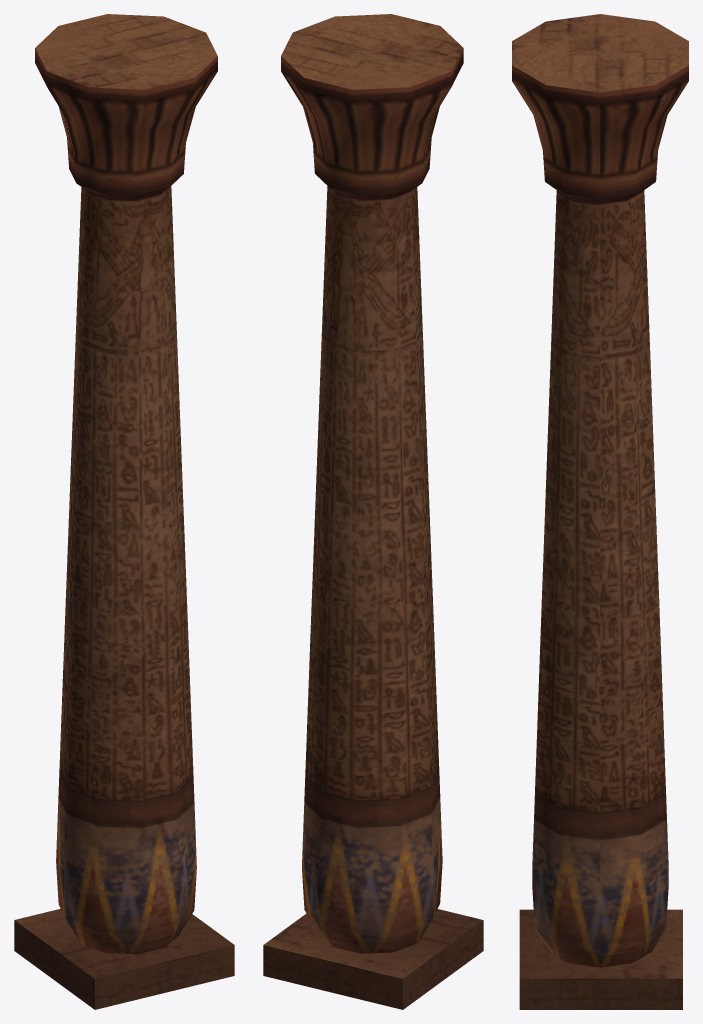
Rendered from Pillar_High_01.FBX.
The picture shows the model from 3 angles, left to right: view 1: azimuth 30°, elevation 25°; view 2: azimuth 150°, elevation 25°; view 3: azimuth 270°, elevation 25°; orthographic projection.
Parts seen in each view (by area): view 1: Pillar_High_01; view 2: Pillar_High_01; view 3: Pillar_High_01.
Part boxes in pixels (left/top/right/bottom): Pillar_High_01: left=14, top=14, right=234, bottom=1009; Pillar_High_01: left=263, top=14, right=483, bottom=1009; Pillar_High_01: left=512, top=14, right=688, bottom=1009.
Size of the model in its own units: 38.47 by 211 by 36.59.
Materials: 1 (1 with a texture image).
